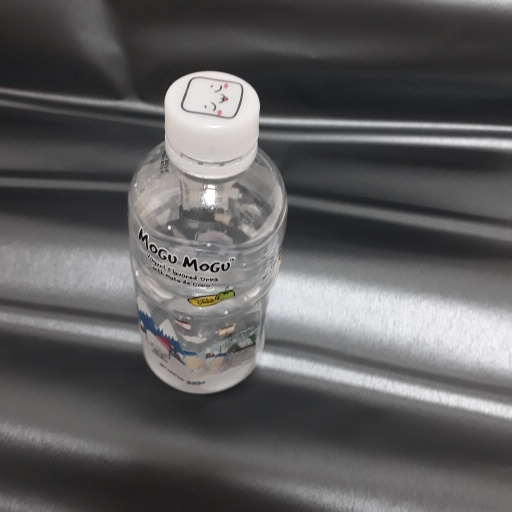Plastic_0: (124, 67, 290, 408)
